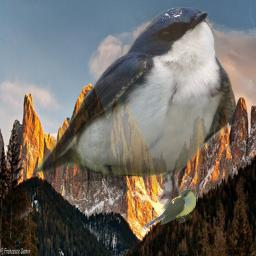Cuckoo: (140, 189, 196, 229)
Swallow: (34, 6, 239, 211)
